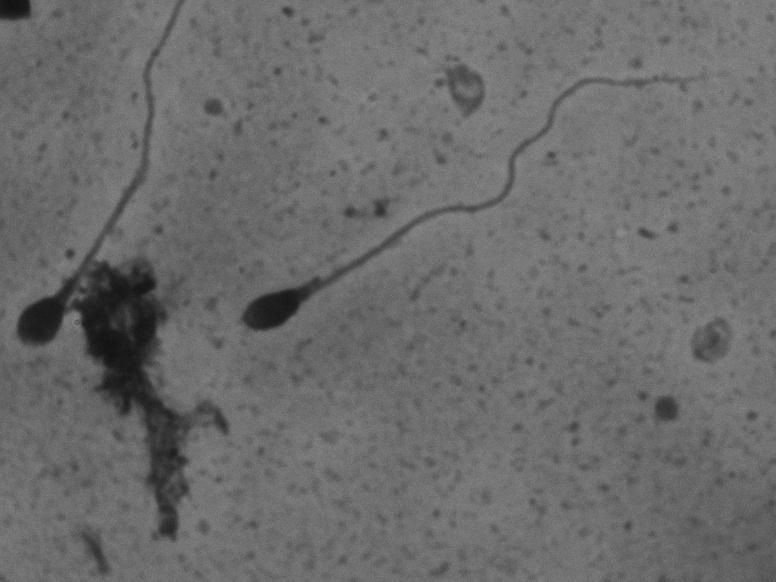Normal: (234, 44, 726, 376), (3, 10, 196, 370)
